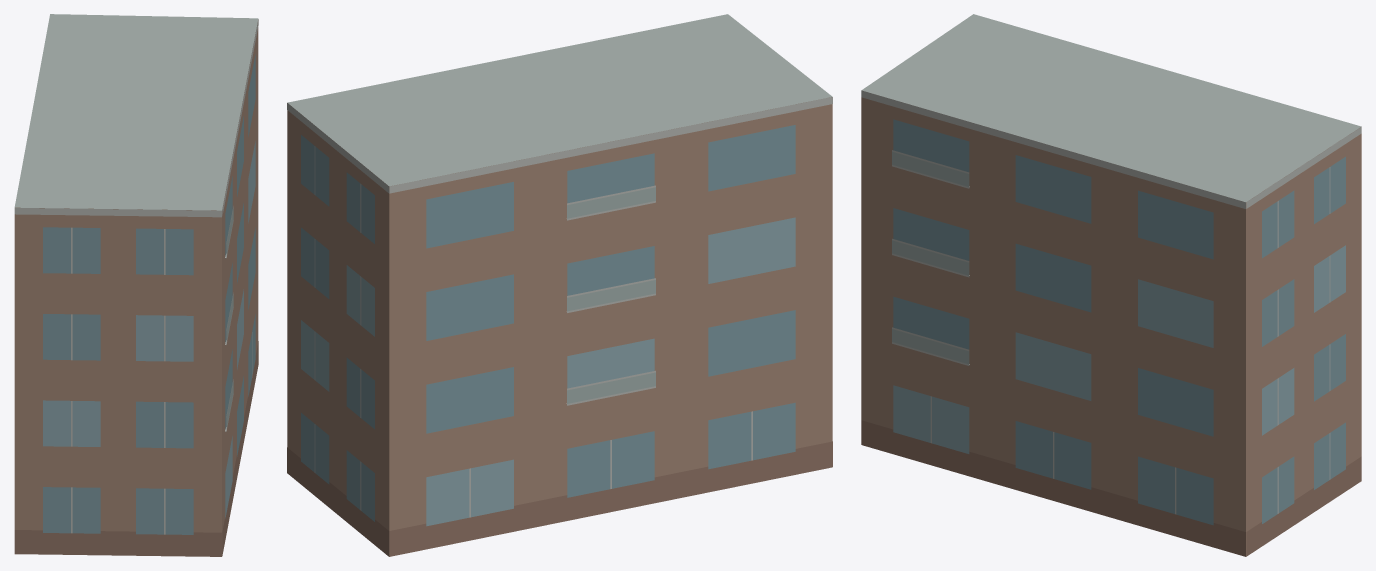
File: survey-upis-32890690.glb
3 renders of one model, left to right at view 1: azimuth 30°, elevation 25°; view 2: azimuth 150°, elevation 25°; view 3: azimuth 270°, elevation 25°, orthographic. The views are drawn at different scales.
Visible parts, largest first — view 1: survey-upis-32890690.tmp; view 2: survey-upis-32890690.tmp; view 3: survey-upis-32890690.tmp.
Part boxes in pixels (<box>): survey-upis-32890690.tmp: <box>14,14,258,556</box>; survey-upis-32890690.tmp: <box>287,14,832,556</box>; survey-upis-32890690.tmp: <box>861,14,1361,556</box>.
Size of the model in its own units: 14.25 by 12.5 by 15.99.
